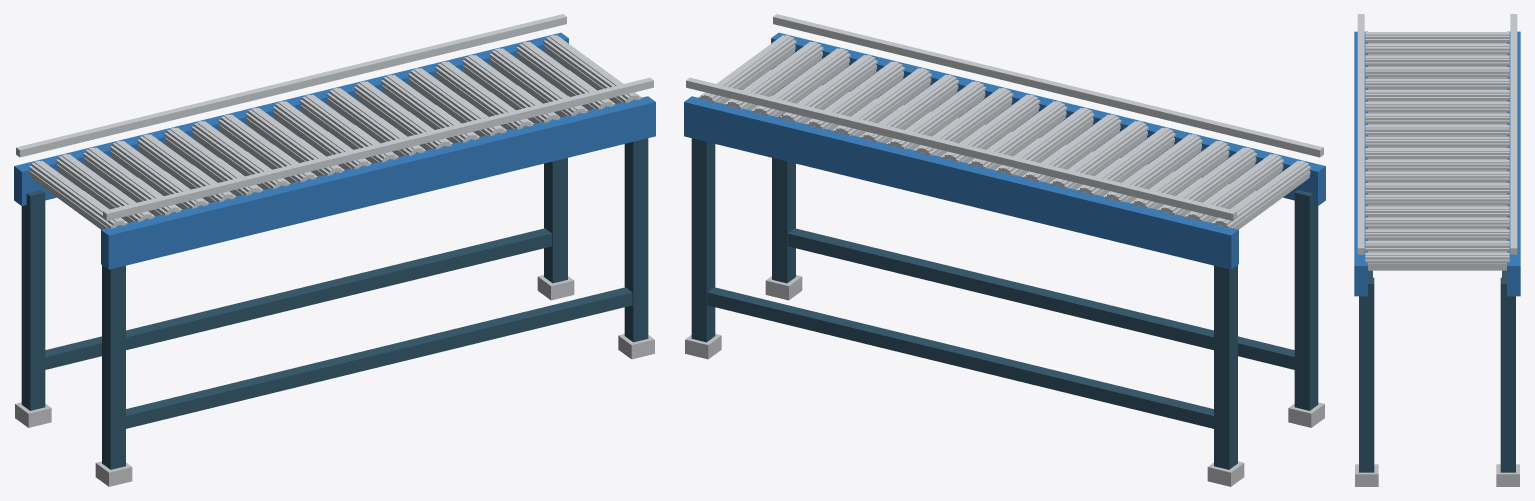
Rendered from convey.glb.
The picture shows the model from 3 angles, left to right: view 1: azimuth 30°, elevation 25°; view 2: azimuth 150°, elevation 25°; view 3: azimuth 270°, elevation 25°; orthographic projection. The views are drawn at different scales.
Visible parts, largest first — view 1: conveyor side frame (×2), base cross rail (×2), steel support (×4), guide rail (×2), levelling foot (×2); view 2: conveyor side frame (×2), base cross rail (×2), steel support (×4), guide rail (×2), levelling foot (×2); view 3: roller segment (×77), steel support (×2), conveyor side frame (×2), guide rail (×2), levelling foot (×2).
Part boxes in pixels (<box>): conveyor side frame (×2): <box>14,32,655,269</box>; base cross rail (×2): <box>45,228,632,428</box>; steel support (×4): <box>21,63,648,469</box>; guide rail (×2): <box>16,14,653,220</box>; levelling foot (×2): <box>95,275,574,486</box>; conveyor side frame (×2): <box>684,32,1325,269</box>; base cross rail (×2): <box>707,228,1294,428</box>; steel support (×4): <box>691,63,1318,469</box>; guide rail (×2): <box>686,14,1323,220</box>; levelling foot (×2): <box>765,275,1244,486</box>; roller segment (×77): <box>1365,32,1509,270</box>; steel support (×2): <box>1359,277,1515,472</box>; conveyor side frame (×2): <box>1354,31,1520,296</box>; guide rail (×2): <box>1357,14,1517,254</box>; levelling foot (×2): <box>1355,464,1519,486</box>.
Size of the model in its own units: 2 by 0.95 by 0.6.
